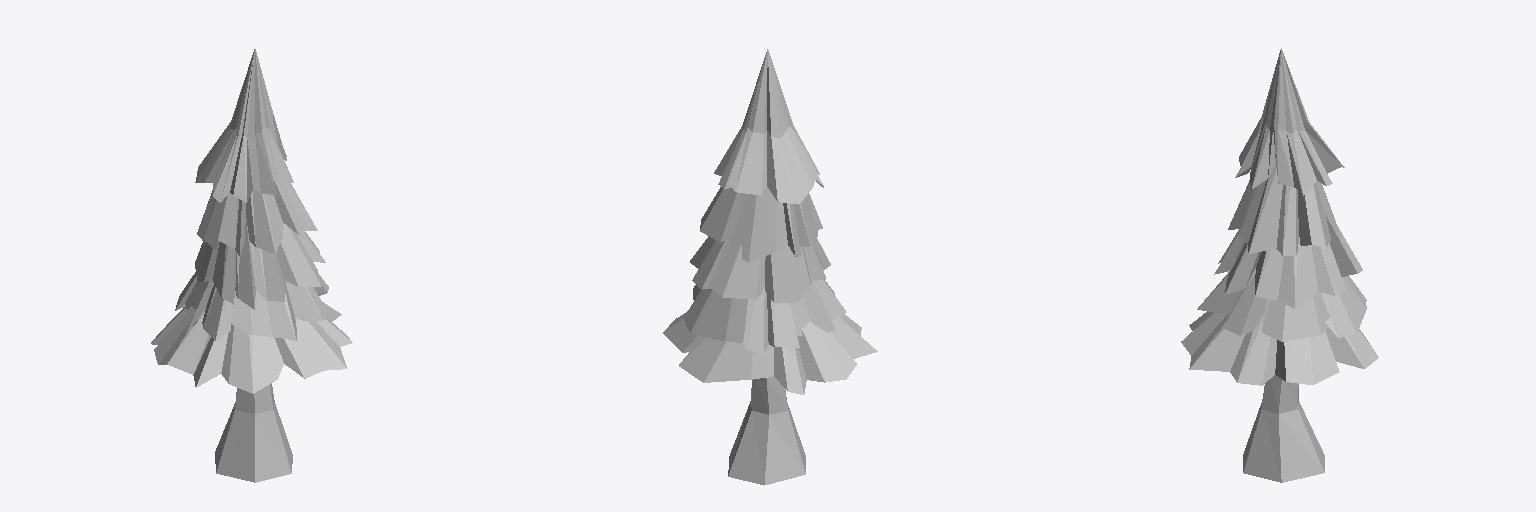
File: Pino1.obj
The picture shows the model from 3 angles: view 1: azimuth 30°, elevation 25°; view 2: azimuth 150°, elevation 25°; view 3: azimuth 270°, elevation 25°; orthographic projection.
Parts seen in each view (by area): view 1: Pino.001; view 2: Pino.001; view 3: Pino.001.
Part boxes in pixels (bbox=[...]): Pino.001: bbox=[151, 49, 352, 482]; Pino.001: bbox=[663, 49, 877, 485]; Pino.001: bbox=[1181, 48, 1378, 482].
Bounding box in the file's own units: 15.35 × 34.29 × 14.77.